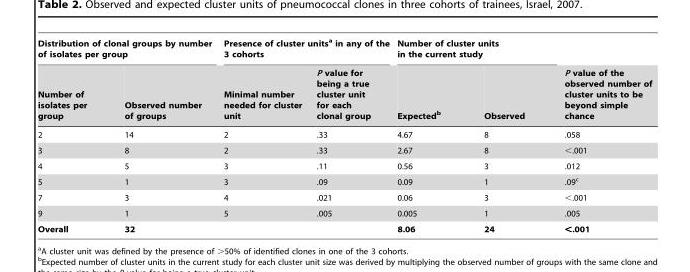table: (37, 37, 651, 233)
table column: (105, 37, 217, 233), (543, 37, 651, 233), (217, 37, 308, 233), (308, 37, 392, 233), (461, 37, 543, 233), (392, 37, 461, 233), (37, 37, 105, 233)
table column header: (37, 37, 651, 125)
table row: (37, 63, 651, 125), (37, 37, 651, 63), (37, 125, 651, 142), (37, 142, 651, 158), (37, 173, 651, 189), (37, 189, 651, 205), (37, 205, 651, 221), (37, 158, 651, 173), (37, 221, 651, 233)
table spanning cell: (543, 37, 651, 125), (37, 37, 217, 63), (217, 37, 392, 63), (392, 37, 543, 63)
